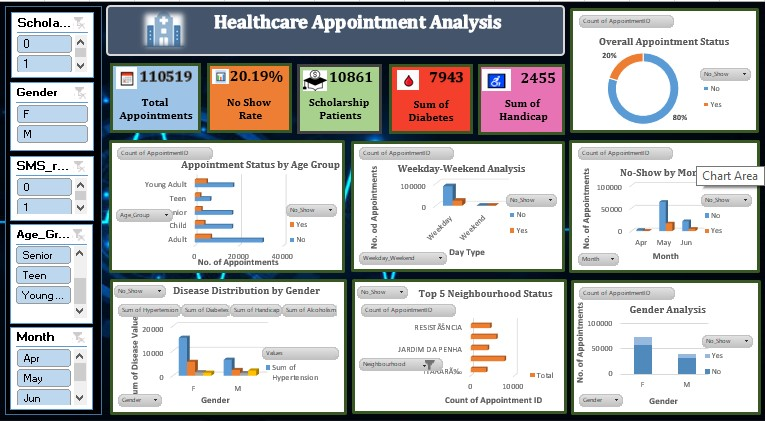

This screenshot's page, from the dashboard's own definition file:
{"tool":"powerbi","page":{"name":"Page 1","canvas":[1800,950],"ordinal":0},"visuals":[{"type":"image","box":[1094,0,248,96],"z":0},{"type":"shape","box":[16,178,218,758],"z":1000},{"type":"listSlicer","fields":{"Values":["Sheet1.Gender"]},"box":[32,192,186,102],"z":2000},{"type":"listSlicer","fields":{"Values":["Sheet1.Month"]},"box":[32,314,186,130],"z":3000},{"type":"listSlicer","fields":{"Values":["Sheet1.Age_Group"]},"box":[32,462,184,194],"z":4000},{"type":"listSlicer","fields":{"Values":["Sheet1.Scholarship"]},"box":[30,680,186,106],"z":5000},{"type":"listSlicer","fields":{"Values":["Sheet1.SMS_received"]},"box":[30,810,184,106],"z":6000},{"type":"textbox","box":[248,0,818,90],"z":7000},{"type":"donutChart","fields":{"Y":["CountNonNull(Sheet1.AppointmentID)"],"Category":["Sheet1.Gender"]},"box":[1370,12,420,282],"z":8000},{"type":"clusteredColumnChart","fields":{"Category":["Sheet1.Month"],"Series":["Sheet1.No_Show"],"Y":["CountNonNull(Sheet1.AppointmentID)"]},"box":[1320,300,470,322],"z":9000},{"type":"columnChart","fields":{"Category":["Sheet1.Age_Group"],"Y":["CountNonNull(Sheet1.PatientId)"]},"box":[742,636,524,300],"z":10000},{"type":"barChart","fields":{"Category":["Sheet1.Neighbourhood"],"Y":["CountNonNull(Sheet1.AppointmentID)"]},"box":[742,278,564,344],"z":11000},{"type":"cardVisual","fields":{"Data":["Sheet1.Total Appointments"]},"box":[494,104,248,160],"z":12000},{"type":"cardVisual","fields":{"Data":["Sheet1.SMS Received"]},"box":[1080,104,276,160],"z":13000},{"type":"cardVisual","fields":{"Data":["Sheet1.Average Age"]},"box":[248,104,232,160],"z":14000},{"type":"cardVisual","fields":{"Data":["Sheet1.Hypertension Patients"]},"box":[756,104,310,160],"z":15000},{"type":"areaChart","fields":{"Category":["Sheet1.Month"],"Series":["Sheet1.Age_Group"],"Y":["CountNonNull(Sheet1.AppointmentID)"]},"box":[248,278,474,344],"z":16000},{"type":"clusteredBarChart","fields":{"Category":["Sheet1.Age_Group"],"Y":["CountNonNull(Sheet1.AppointmentID)"],"Series":["Sheet1.No_Show"]},"box":[1280,636,510,300],"z":17000},{"type":"lineChart","fields":{"Y":["CountNonNull(Sheet1.AppointmentID)"],"Series":["Sheet1.No_Show"],"Category":["Sheet1.Day_Name"]},"box":[248,636,474,300],"z":18000},{"type":"image","box":[8,0,234,180],"z":19000},{"type":"image","box":[912,158,68,86],"z":20000},{"type":"image","box":[1218,172,114,58],"z":21000},{"type":"image","box":[658,174,64,58],"z":22000},{"type":"image","box":[422,170,38,62],"z":23000}]}

Visuals, with their boxes in screenshot pixels (x1, y1, x2, y2):
image: pyautogui.locateOnScreen(462, 16, 566, 56)
shape: pyautogui.locateOnScreen(11, 91, 102, 408)
listSlicer - Sheet1.Gender: pyautogui.locateOnScreen(17, 96, 95, 139)
listSlicer - Sheet1.Month: pyautogui.locateOnScreen(17, 148, 95, 202)
listSlicer - Sheet1.Age_Group: pyautogui.locateOnScreen(17, 210, 95, 291)
listSlicer - Sheet1.Scholarship: pyautogui.locateOnScreen(17, 301, 95, 345)
listSlicer - Sheet1.SMS_received: pyautogui.locateOnScreen(17, 355, 94, 400)
textbox: pyautogui.locateOnScreen(108, 16, 451, 54)
donutChart - CountNonNull(Sheet1.AppointmentID) x Sheet1.Gender: pyautogui.locateOnScreen(578, 21, 754, 139)
clusteredColumnChart - Sheet1.Month x Sheet1.No_Show: pyautogui.locateOnScreen(557, 142, 754, 277)
columnChart - Sheet1.Age_Group x CountNonNull(Sheet1.PatientId): pyautogui.locateOnScreen(315, 283, 535, 408)
barChart - Sheet1.Neighbourhood x CountNonNull(Sheet1.AppointmentID): pyautogui.locateOnScreen(315, 132, 551, 277)
cardVisual - Sheet1.Total Appointments: pyautogui.locateOnScreen(211, 60, 315, 127)
cardVisual - Sheet1.SMS Received: pyautogui.locateOnScreen(457, 60, 572, 127)
cardVisual - Sheet1.Average Age: pyautogui.locateOnScreen(108, 60, 205, 127)
cardVisual - Sheet1.Hypertension Patients: pyautogui.locateOnScreen(321, 60, 451, 127)
areaChart - Sheet1.Month x Sheet1.Age_Group: pyautogui.locateOnScreen(108, 132, 307, 277)
clusteredBarChart - Sheet1.Age_Group x CountNonNull(Sheet1.AppointmentID): pyautogui.locateOnScreen(540, 283, 754, 408)
lineChart - CountNonNull(Sheet1.AppointmentID) x Sheet1.No_Show: pyautogui.locateOnScreen(108, 283, 307, 408)
image: pyautogui.locateOnScreen(7, 16, 105, 91)
image: pyautogui.locateOnScreen(386, 82, 415, 118)
image: pyautogui.locateOnScreen(514, 88, 562, 112)
image: pyautogui.locateOnScreen(280, 89, 307, 113)
image: pyautogui.locateOnScreen(181, 87, 197, 113)
